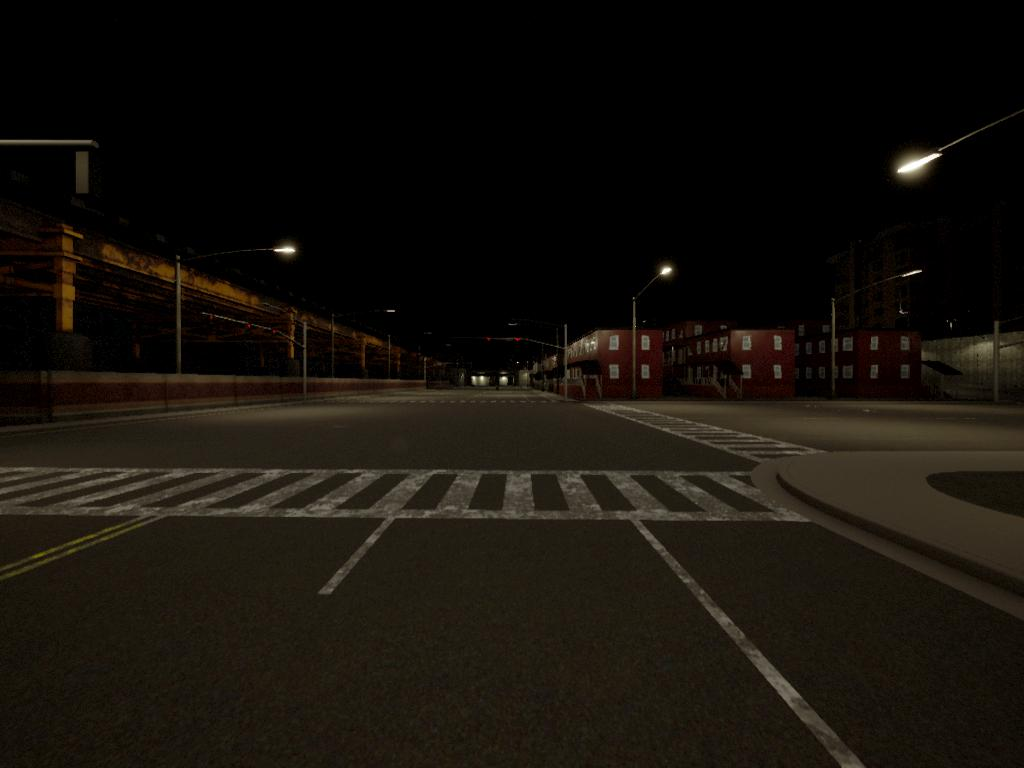traffic_light: (516, 336, 523, 345), (272, 328, 277, 340), (488, 336, 493, 345), (210, 313, 215, 321), (248, 323, 252, 331)
